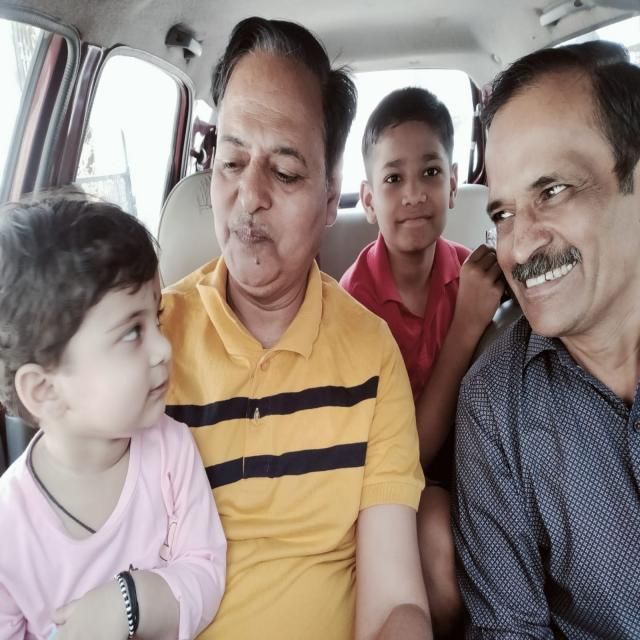child: (0, 183, 181, 460)
person: (480, 37, 640, 363), (204, 14, 356, 327), (361, 69, 471, 288)
